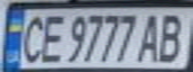7: (115, 10, 142, 63), (100, 10, 124, 63), (84, 10, 106, 63)
9: (63, 11, 87, 63)
A: (136, 10, 166, 63)
B: (154, 10, 190, 63)
C: (15, 10, 48, 64)
E: (36, 10, 69, 64)
